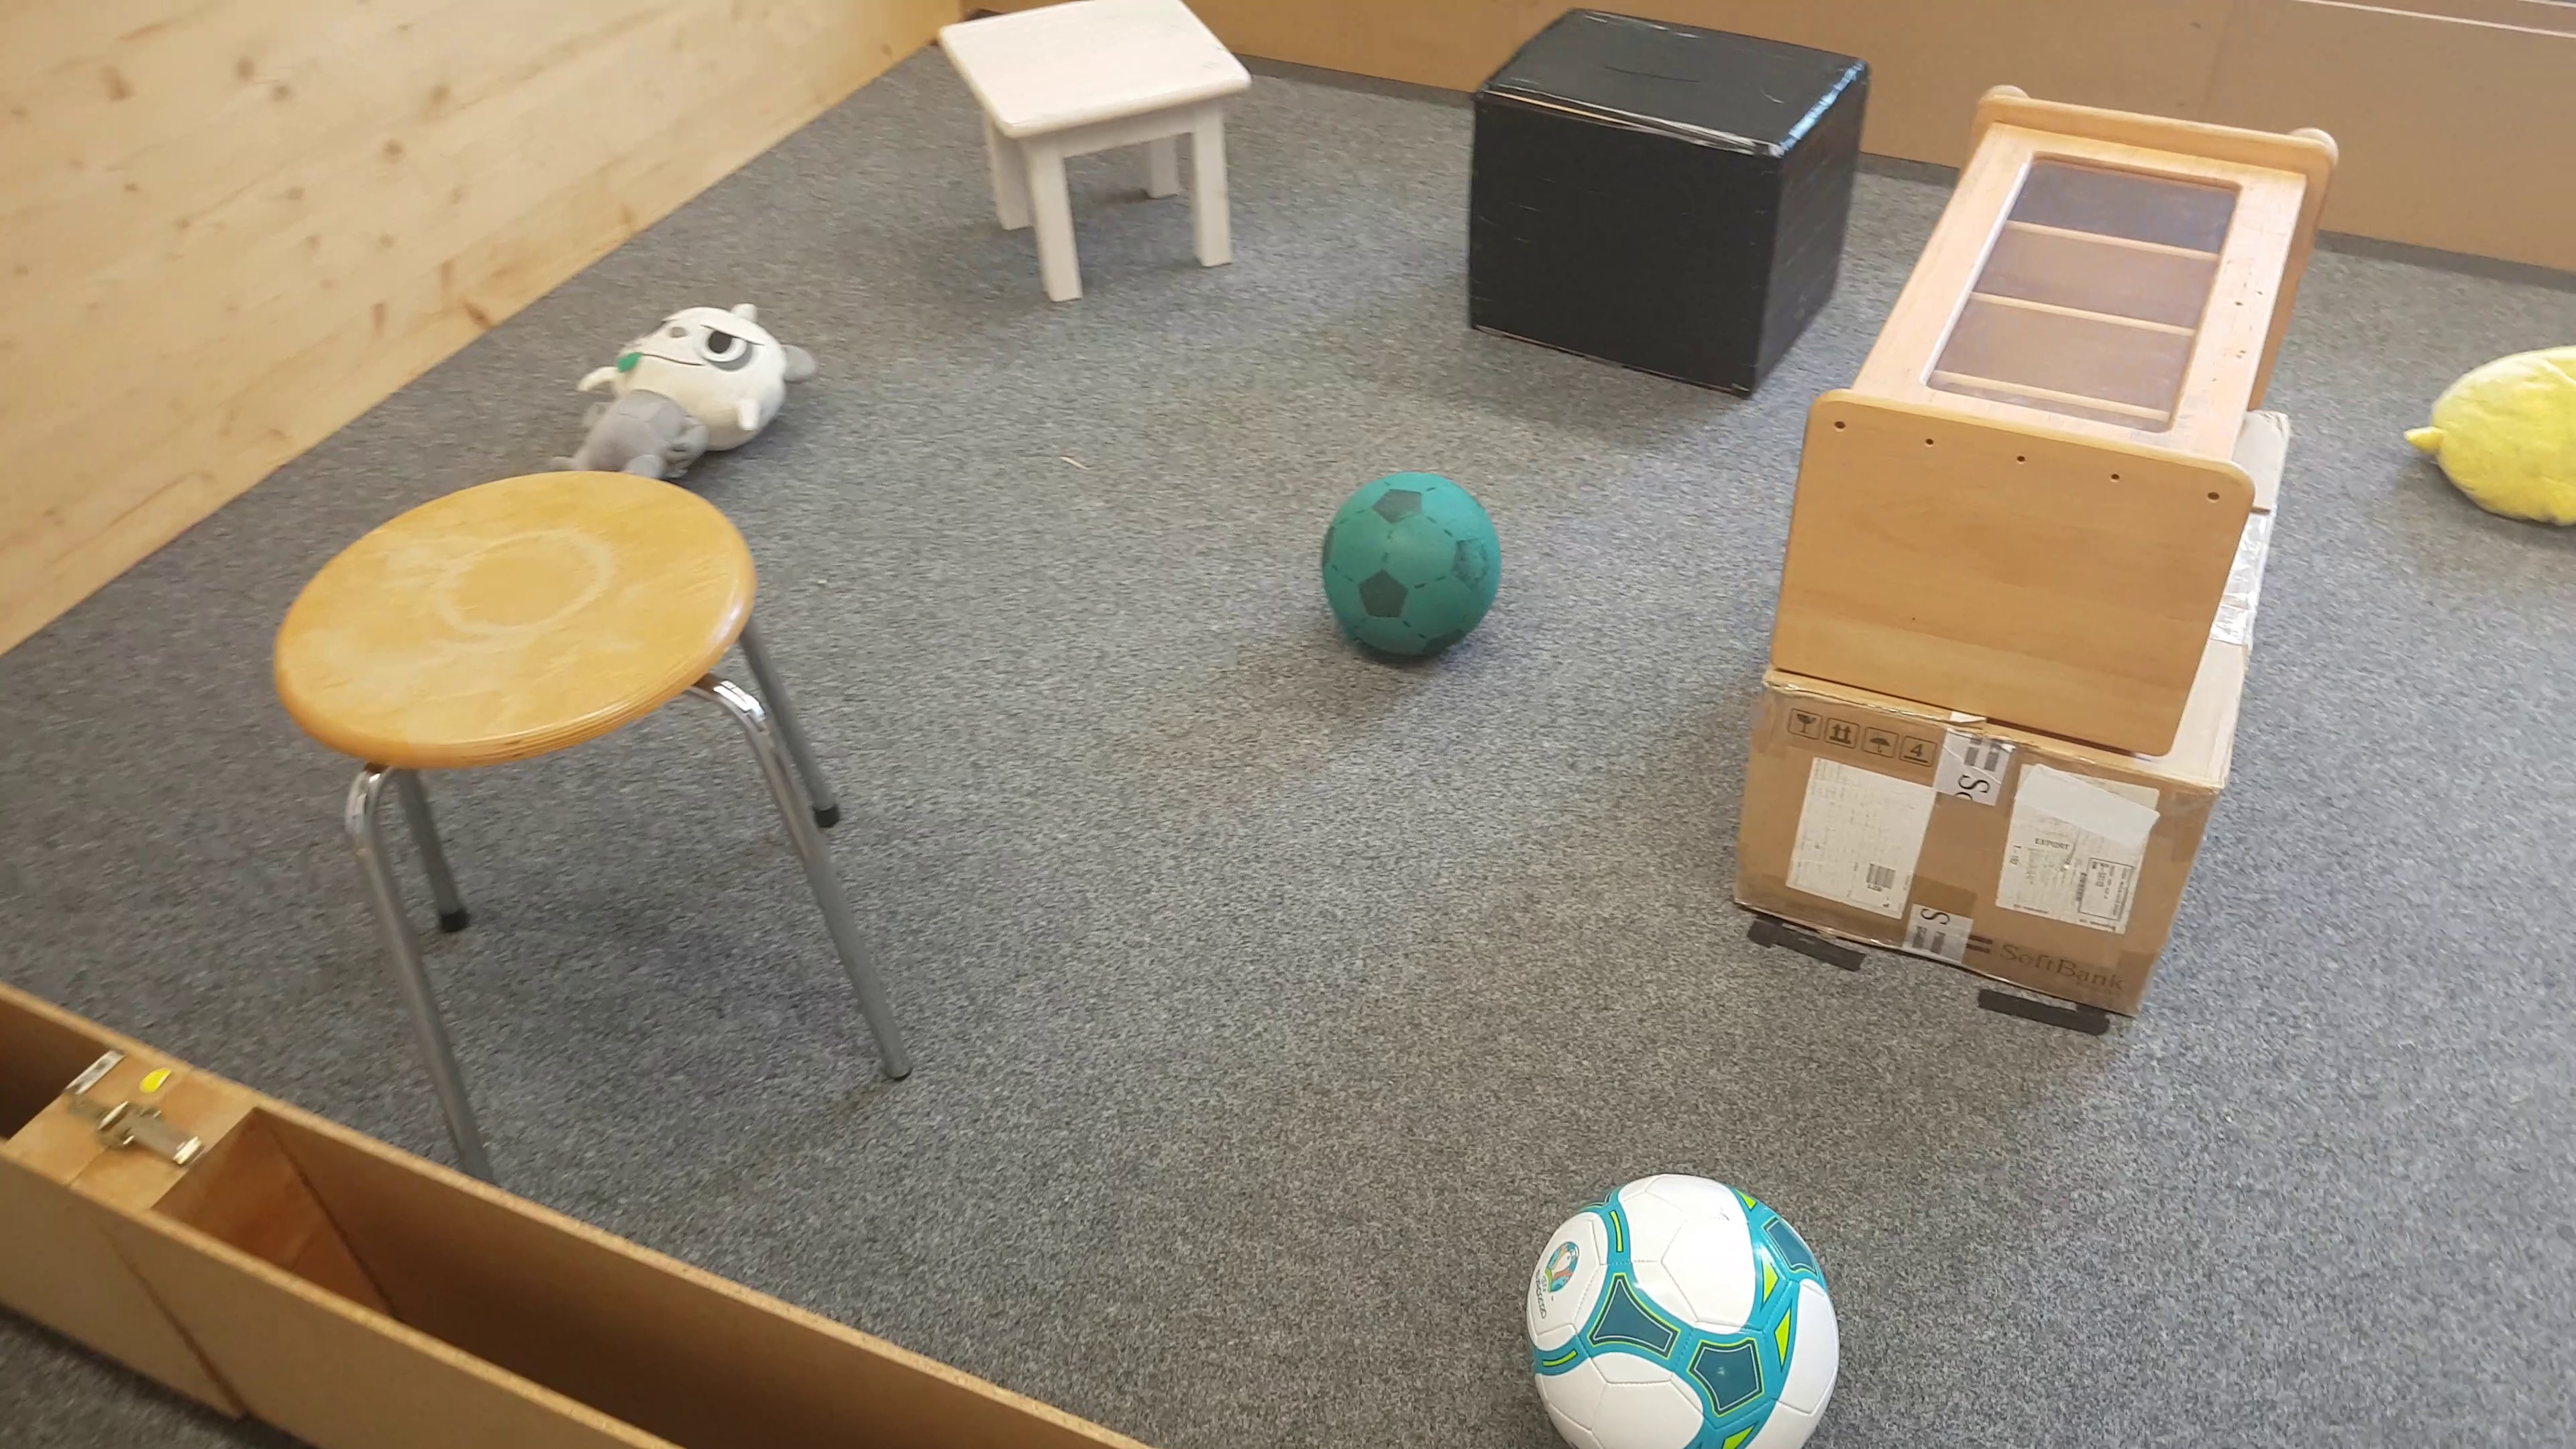grasp: (577, 294, 812, 476), (2415, 350, 2576, 525)
kick: (1522, 1166, 1838, 1449), (1325, 474, 1500, 669)
push: (1477, 5, 1845, 387)
